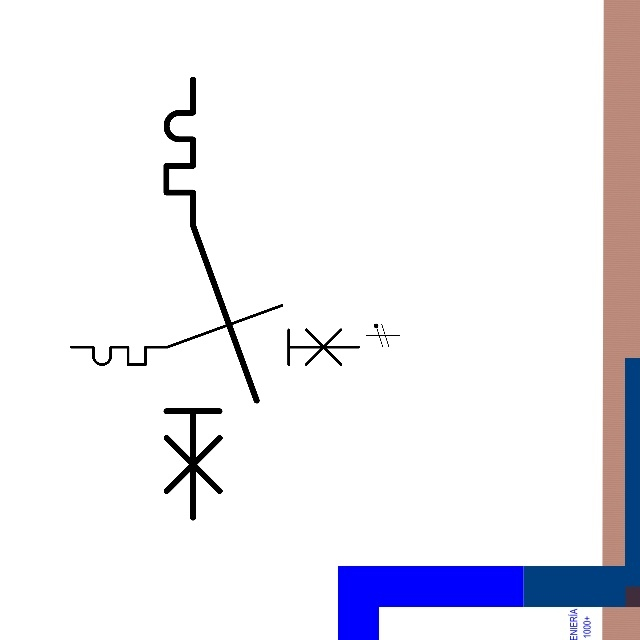interruptor_termomagnetico: (155, 68, 268, 529), (64, 298, 366, 372)
